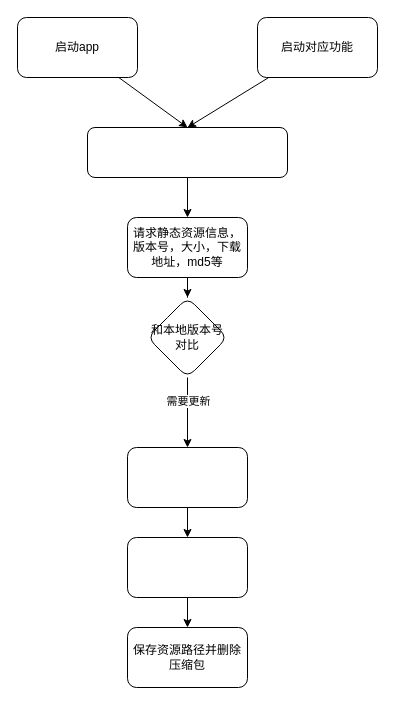
Image size: 395x705. Some labels were removed from this diagram. Each missing label, with the centre of its shape:
下载资源: the point at 187,477
启动资源更新工具: the point at 187,152
验证md5并解压资源: the point at 187,567
